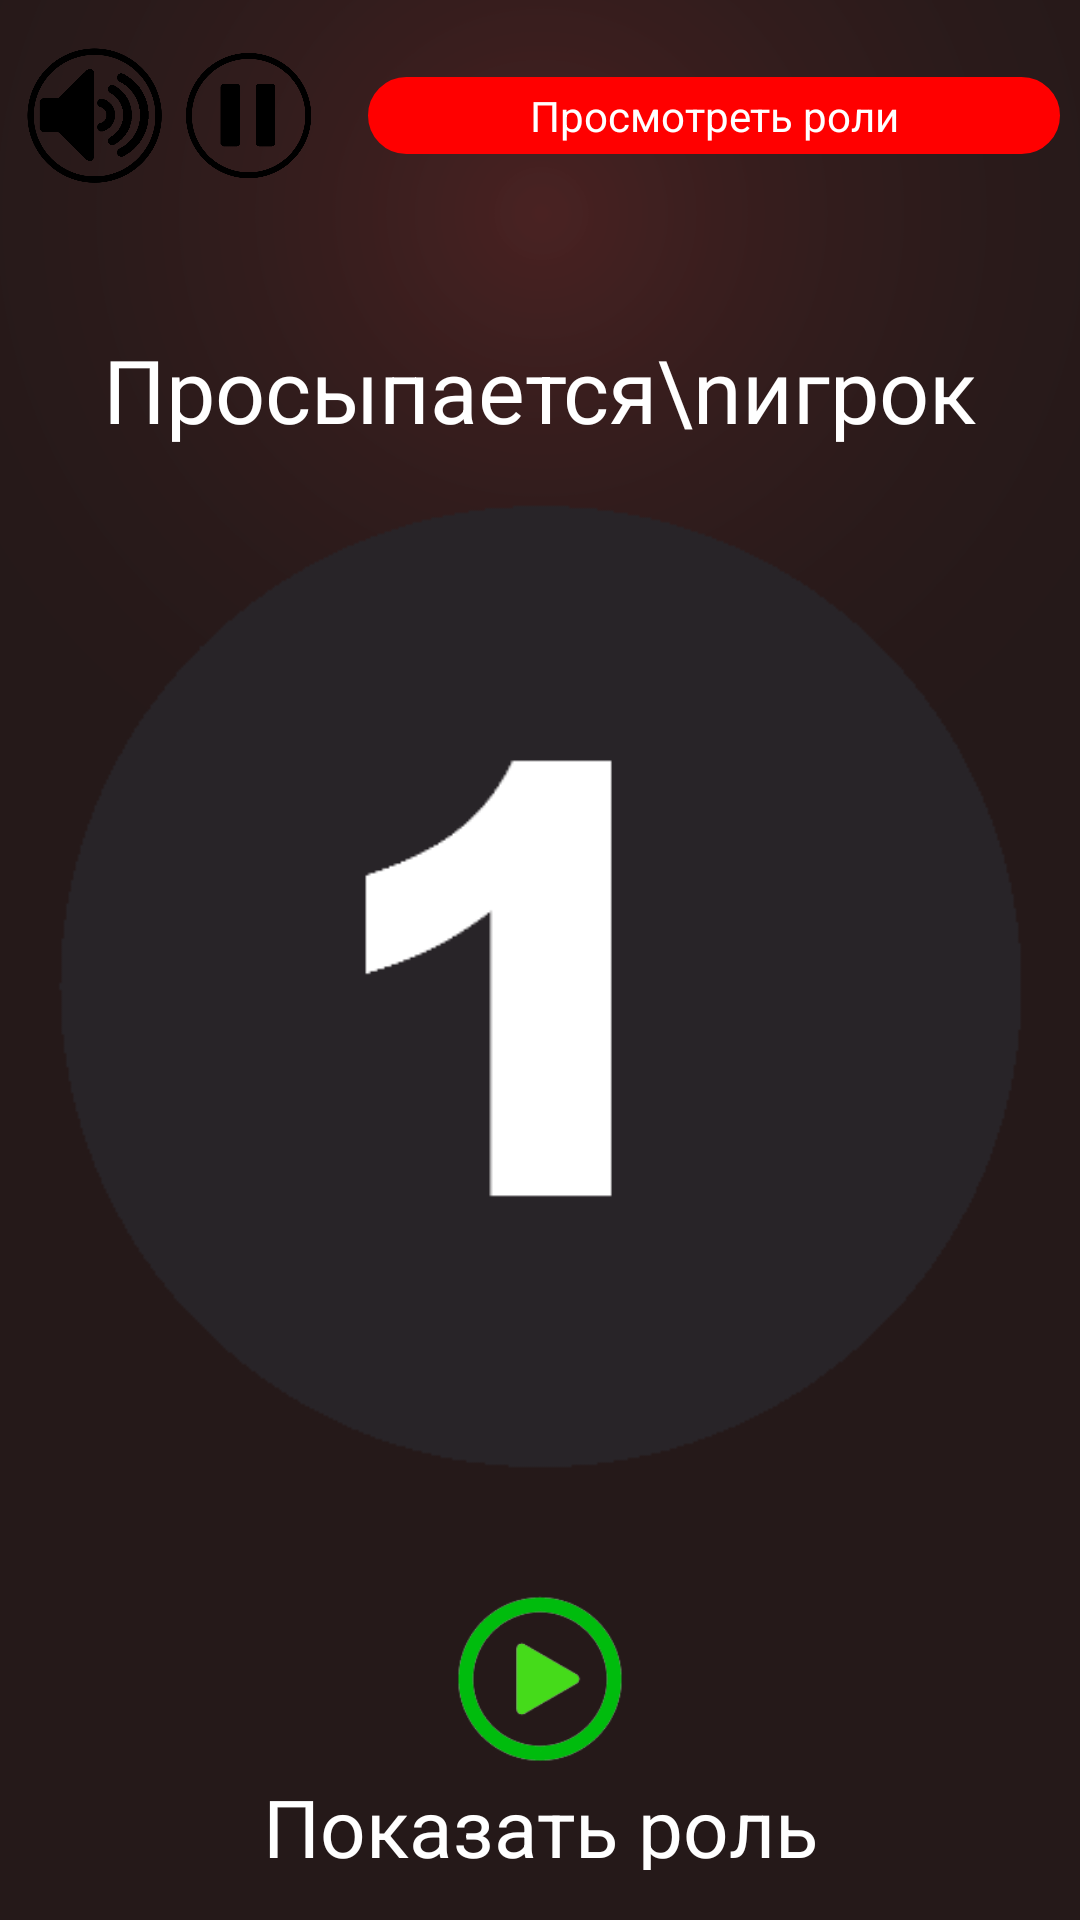

Named icons in this screenshot (1080px x 1920px) and their bounding boxes, (x1, y1, x2, y2):
pause: (186, 53, 311, 178)
sound: (27, 48, 162, 183)
start: (458, 1597, 622, 1761)
